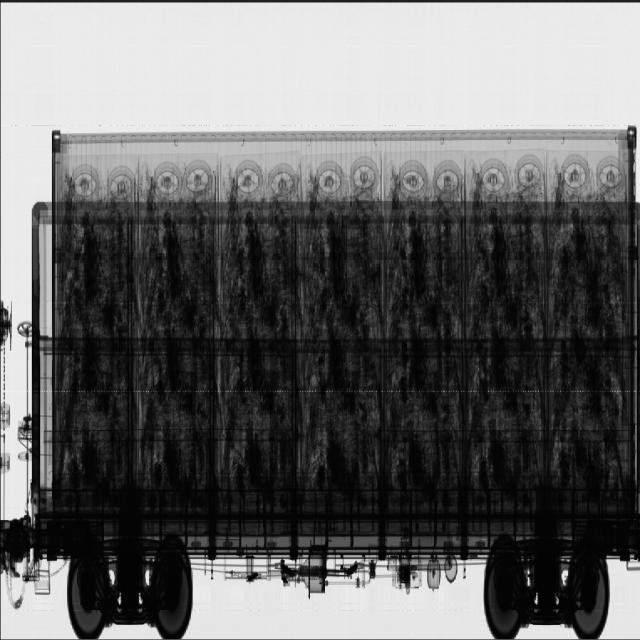table ware: (219, 134, 381, 360)
textile: (71, 124, 456, 465)
